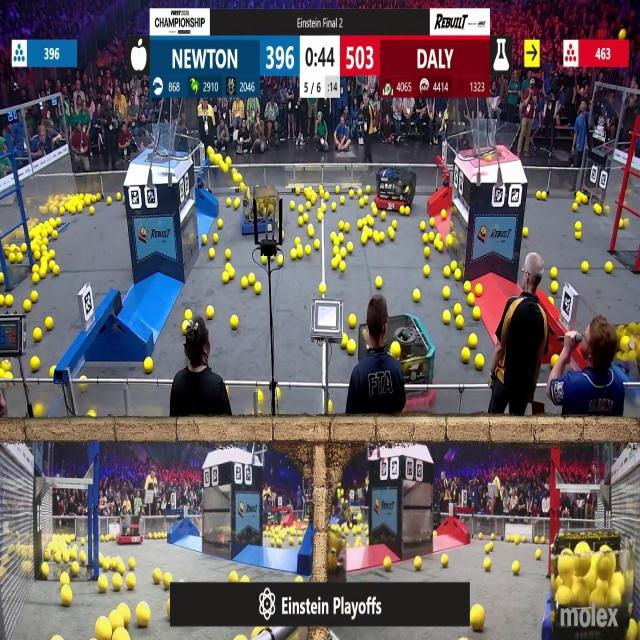ball_airborne: (235, 173, 242, 184), (208, 146, 214, 156), (224, 158, 230, 166)
ball_ground: (94, 618, 110, 640), (470, 607, 483, 632), (137, 605, 150, 629), (62, 588, 72, 607), (121, 610, 130, 629), (112, 574, 121, 590), (164, 572, 173, 588), (144, 357, 153, 372), (31, 356, 40, 371), (99, 579, 108, 594), (153, 568, 161, 584), (34, 406, 43, 420), (128, 574, 136, 588), (34, 327, 42, 341), (474, 355, 482, 369), (72, 562, 80, 576), (348, 341, 356, 355), (116, 631, 128, 640), (384, 558, 392, 571), (468, 336, 476, 349), (484, 558, 492, 571), (513, 561, 521, 574), (61, 573, 70, 584), (116, 562, 125, 573), (232, 315, 239, 329), (415, 557, 422, 571), (462, 348, 469, 362), (42, 564, 49, 578), (456, 316, 464, 328), (551, 282, 559, 294), (444, 312, 452, 324), (442, 555, 450, 567), (45, 317, 52, 330), (414, 289, 421, 302), (231, 570, 239, 581), (43, 551, 51, 562), (376, 277, 383, 289), (444, 286, 451, 298), (207, 306, 214, 318), (242, 277, 249, 289), (349, 315, 356, 327), (31, 290, 38, 302), (248, 274, 255, 286), (39, 268, 46, 280), (552, 354, 559, 366), (184, 310, 192, 320), (454, 271, 462, 281), (32, 274, 40, 284), (342, 338, 348, 351), (472, 308, 479, 319), (25, 301, 32, 312), (551, 269, 558, 280), (467, 293, 474, 304), (254, 283, 261, 294), (5, 295, 12, 306), (474, 284, 481, 295), (445, 268, 452, 279), (79, 553, 86, 564), (575, 192, 582, 203), (224, 248, 230, 260), (130, 558, 136, 570), (290, 248, 296, 260), (308, 224, 314, 236), (222, 272, 228, 284), (76, 205, 84, 214), (110, 558, 116, 570), (340, 263, 347, 273), (605, 264, 612, 274), (319, 283, 326, 293), (595, 205, 602, 215), (620, 30, 627, 40), (277, 255, 284, 265), (388, 230, 395, 240), (360, 235, 367, 245), (34, 250, 41, 260), (447, 236, 454, 246), (230, 270, 237, 280), (1, 360, 8, 370), (84, 198, 91, 208), (583, 263, 589, 274), (209, 248, 215, 259), (331, 260, 337, 271), (380, 233, 386, 244), (49, 263, 55, 274), (242, 574, 250, 582), (331, 247, 338, 256), (455, 305, 461, 315), (424, 247, 430, 257), (523, 228, 529, 238), (235, 200, 241, 210), (306, 202, 312, 212), (55, 267, 61, 277), (184, 324, 190, 334), (340, 234, 346, 244), (327, 400, 332, 412), (436, 240, 442, 250), (64, 554, 70, 564), (100, 557, 106, 567), (294, 575, 302, 582), (89, 412, 97, 419), (540, 191, 547, 199), (356, 220, 363, 228), (70, 206, 77, 214), (424, 267, 429, 278), (464, 282, 469, 293), (257, 390, 262, 401), (314, 240, 320, 249), (442, 210, 448, 219), (574, 232, 580, 241), (535, 551, 541, 560), (574, 221, 580, 230), (297, 217, 303, 226), (306, 246, 312, 255), (212, 235, 218, 244), (202, 236, 208, 245), (367, 217, 373, 226), (263, 255, 269, 264), (317, 213, 323, 222), (620, 219, 626, 228), (572, 204, 578, 213), (547, 295, 553, 304), (583, 196, 589, 205), (336, 252, 342, 261), (348, 243, 353, 253), (341, 197, 346, 207), (304, 214, 309, 224), (296, 248, 301, 258), (366, 230, 371, 240), (356, 536, 361, 546), (276, 386, 281, 396), (434, 234, 441, 241), (452, 263, 458, 271), (358, 199, 364, 207), (429, 218, 435, 226), (51, 232, 57, 240), (341, 248, 347, 256), (406, 208, 412, 216), (479, 532, 485, 540), (348, 189, 354, 197), (23, 244, 29, 252), (421, 221, 426, 230), (331, 233, 336, 242), (345, 222, 350, 231), (340, 221, 345, 230), (217, 219, 222, 228), (331, 204, 336, 213), (49, 250, 54, 259), (423, 235, 428, 244), (16, 253, 21, 262), (381, 211, 386, 220), (321, 204, 326, 213), (289, 536, 294, 545), (0, 294, 4, 305), (0, 274, 4, 285), (294, 238, 300, 245), (33, 266, 39, 273), (224, 265, 230, 272), (365, 185, 371, 192), (91, 207, 96, 215), (49, 366, 53, 376), (324, 191, 329, 199), (371, 208, 376, 216), (486, 546, 491, 554), (97, 192, 102, 200), (9, 254, 14, 262), (0, 369, 5, 377), (61, 208, 66, 216), (374, 229, 378, 239), (514, 538, 519, 546), (298, 205, 302, 214), (358, 511, 362, 520), (107, 198, 112, 205), (362, 223, 367, 230), (43, 238, 48, 245), (400, 207, 404, 215), (290, 202, 294, 210), (392, 220, 396, 228), (226, 200, 230, 208), (55, 636, 63, 640), (537, 538, 541, 546), (80, 538, 85, 544), (116, 192, 120, 199), (536, 191, 540, 198), (491, 533, 495, 540), (58, 218, 62, 225), (295, 188, 299, 195), (337, 186, 341, 193), (432, 531, 436, 537), (282, 233, 284, 239)
goal: (466, 122, 522, 160), (130, 129, 188, 161)
robot_blue: (545, 533, 636, 640), (609, 320, 640, 405), (241, 187, 284, 236)
robot_red: (390, 316, 440, 411), (374, 164, 416, 210), (117, 517, 142, 544), (264, 512, 282, 530)
